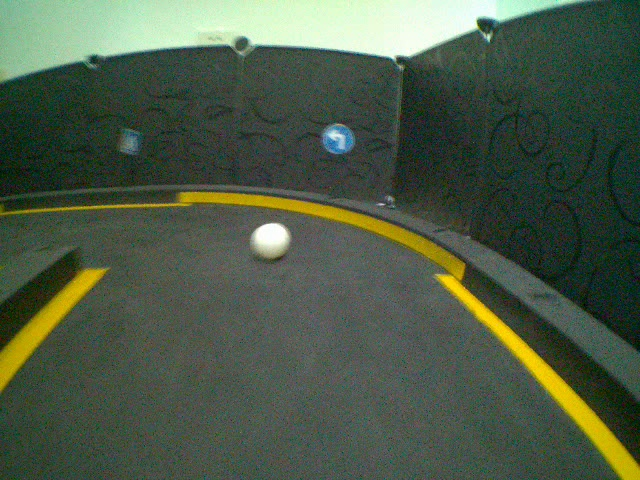ball: (250, 222, 292, 258)
